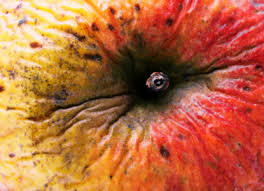damaged_apple: (19, 13, 240, 178)
